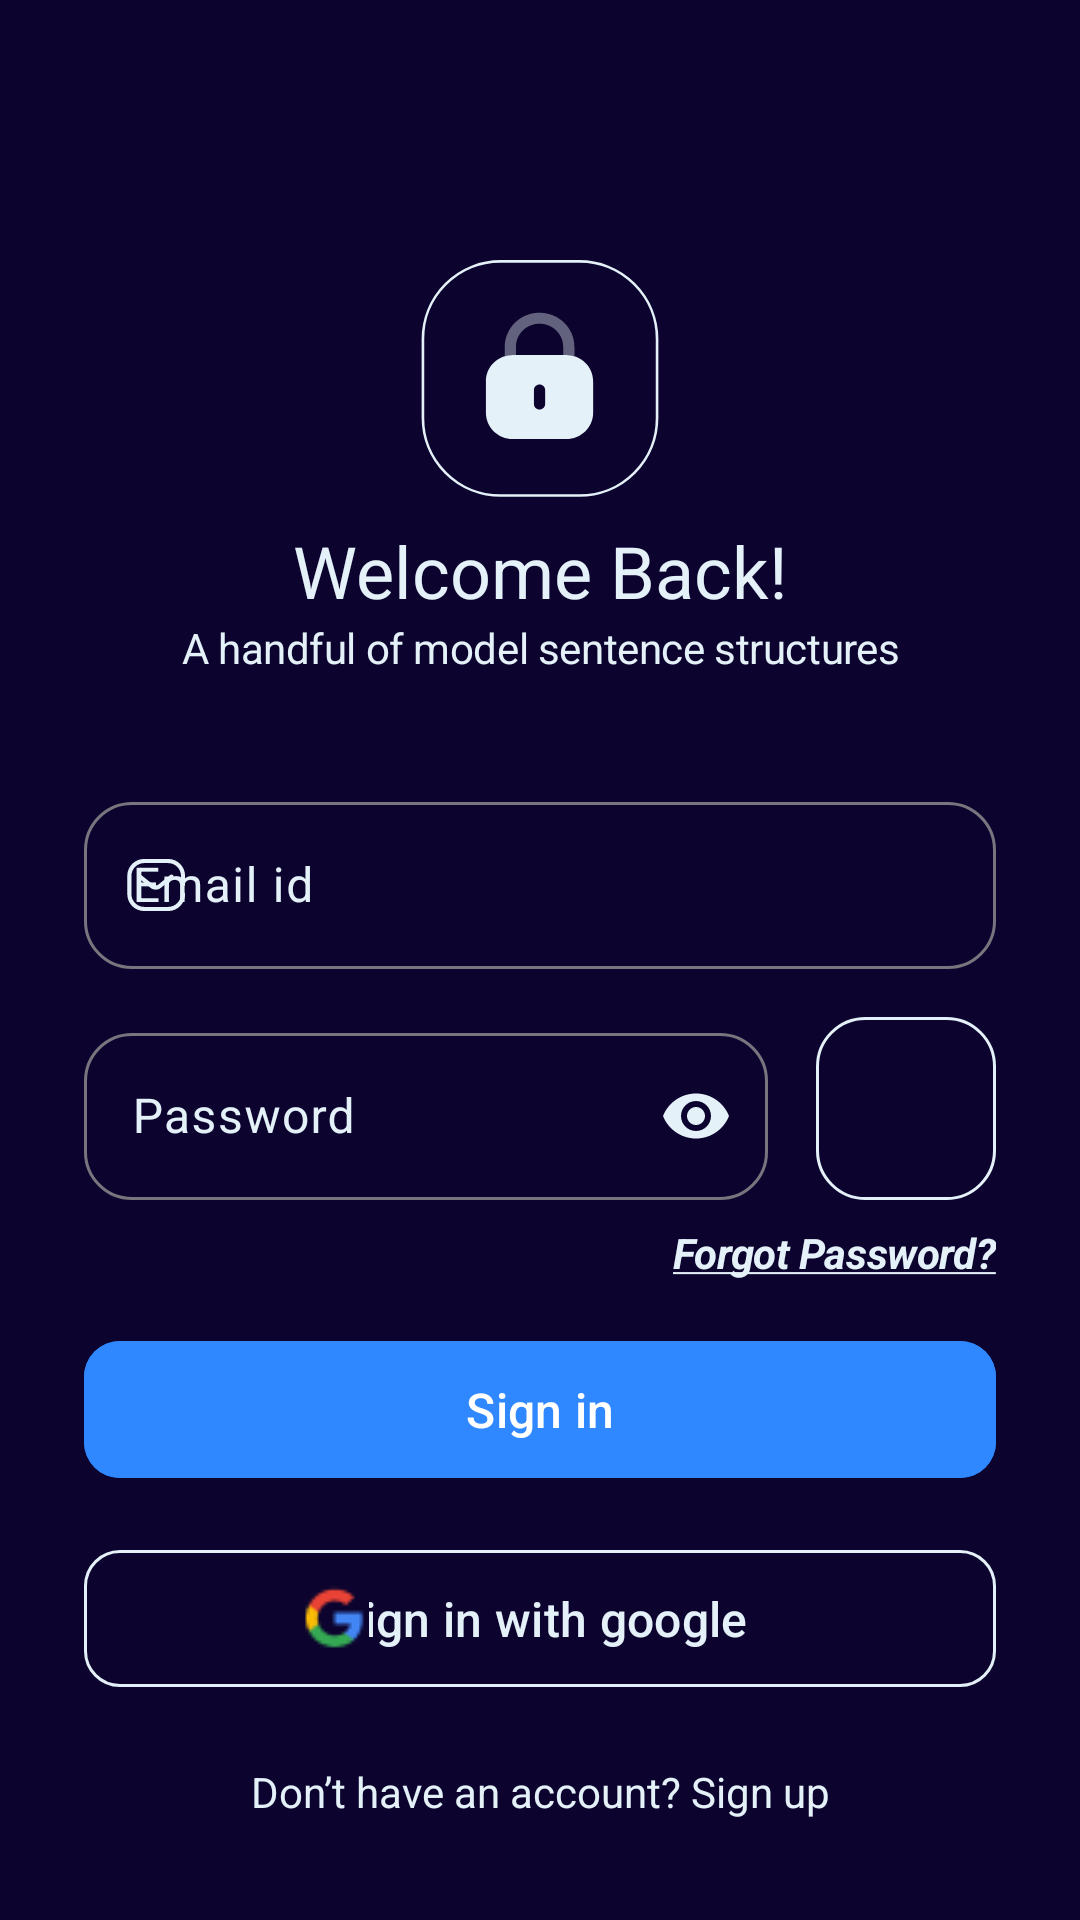

Icon click points for this 1080px×1920px phone screenshot, format [x,y]:
lock: [540,378]
